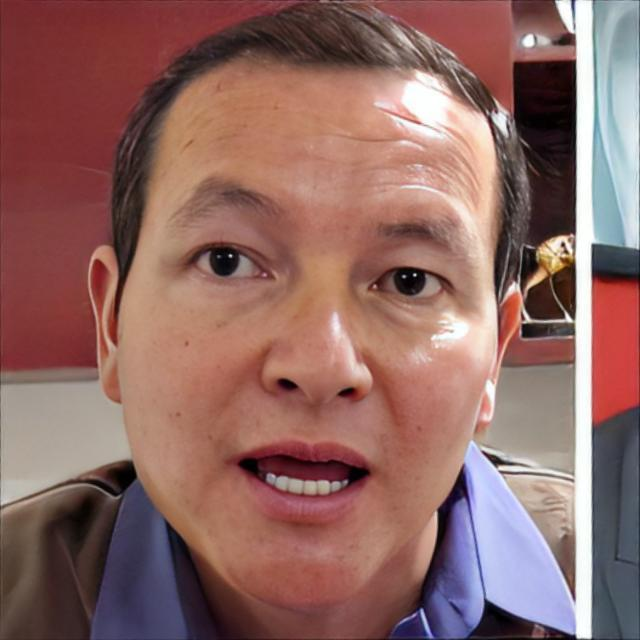surprise: (117, 51, 500, 612)
